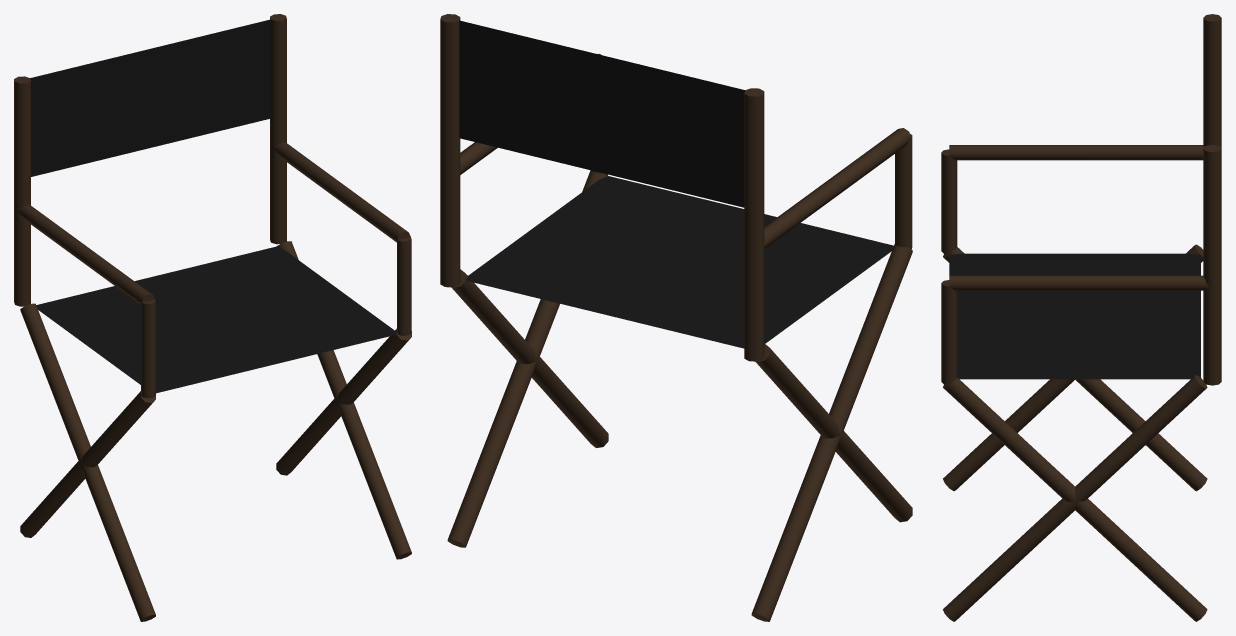
File: sedia-regista.glb
3 views of the same model, side by side, from view 1: azimuth 30°, elevation 25°; view 2: azimuth 150°, elevation 25°; view 3: azimuth 270°, elevation 25° (orthographic). The views are drawn at different scales.
Bounding box in the file's own units: 0.572 × 0.9112 × 0.49.
